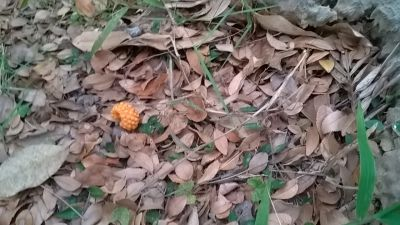eggs: (110, 100, 142, 131)
